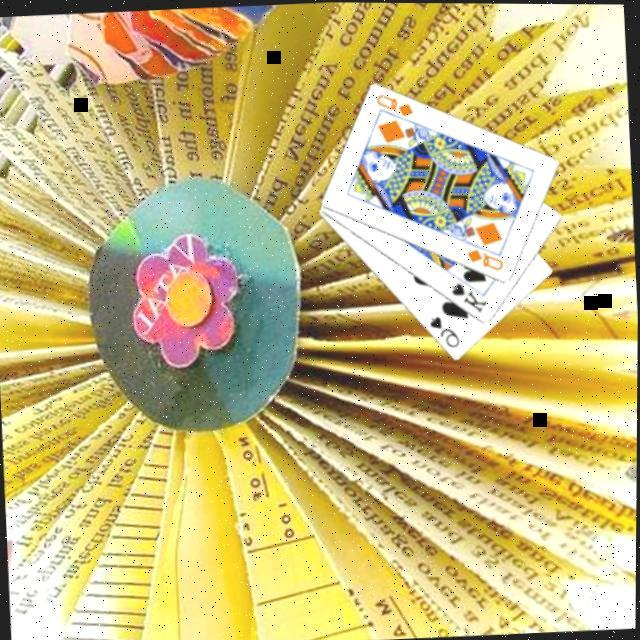9S: (424, 309, 462, 349)
KS: (448, 276, 490, 315)
QD: (372, 88, 415, 119), (463, 242, 506, 272)
